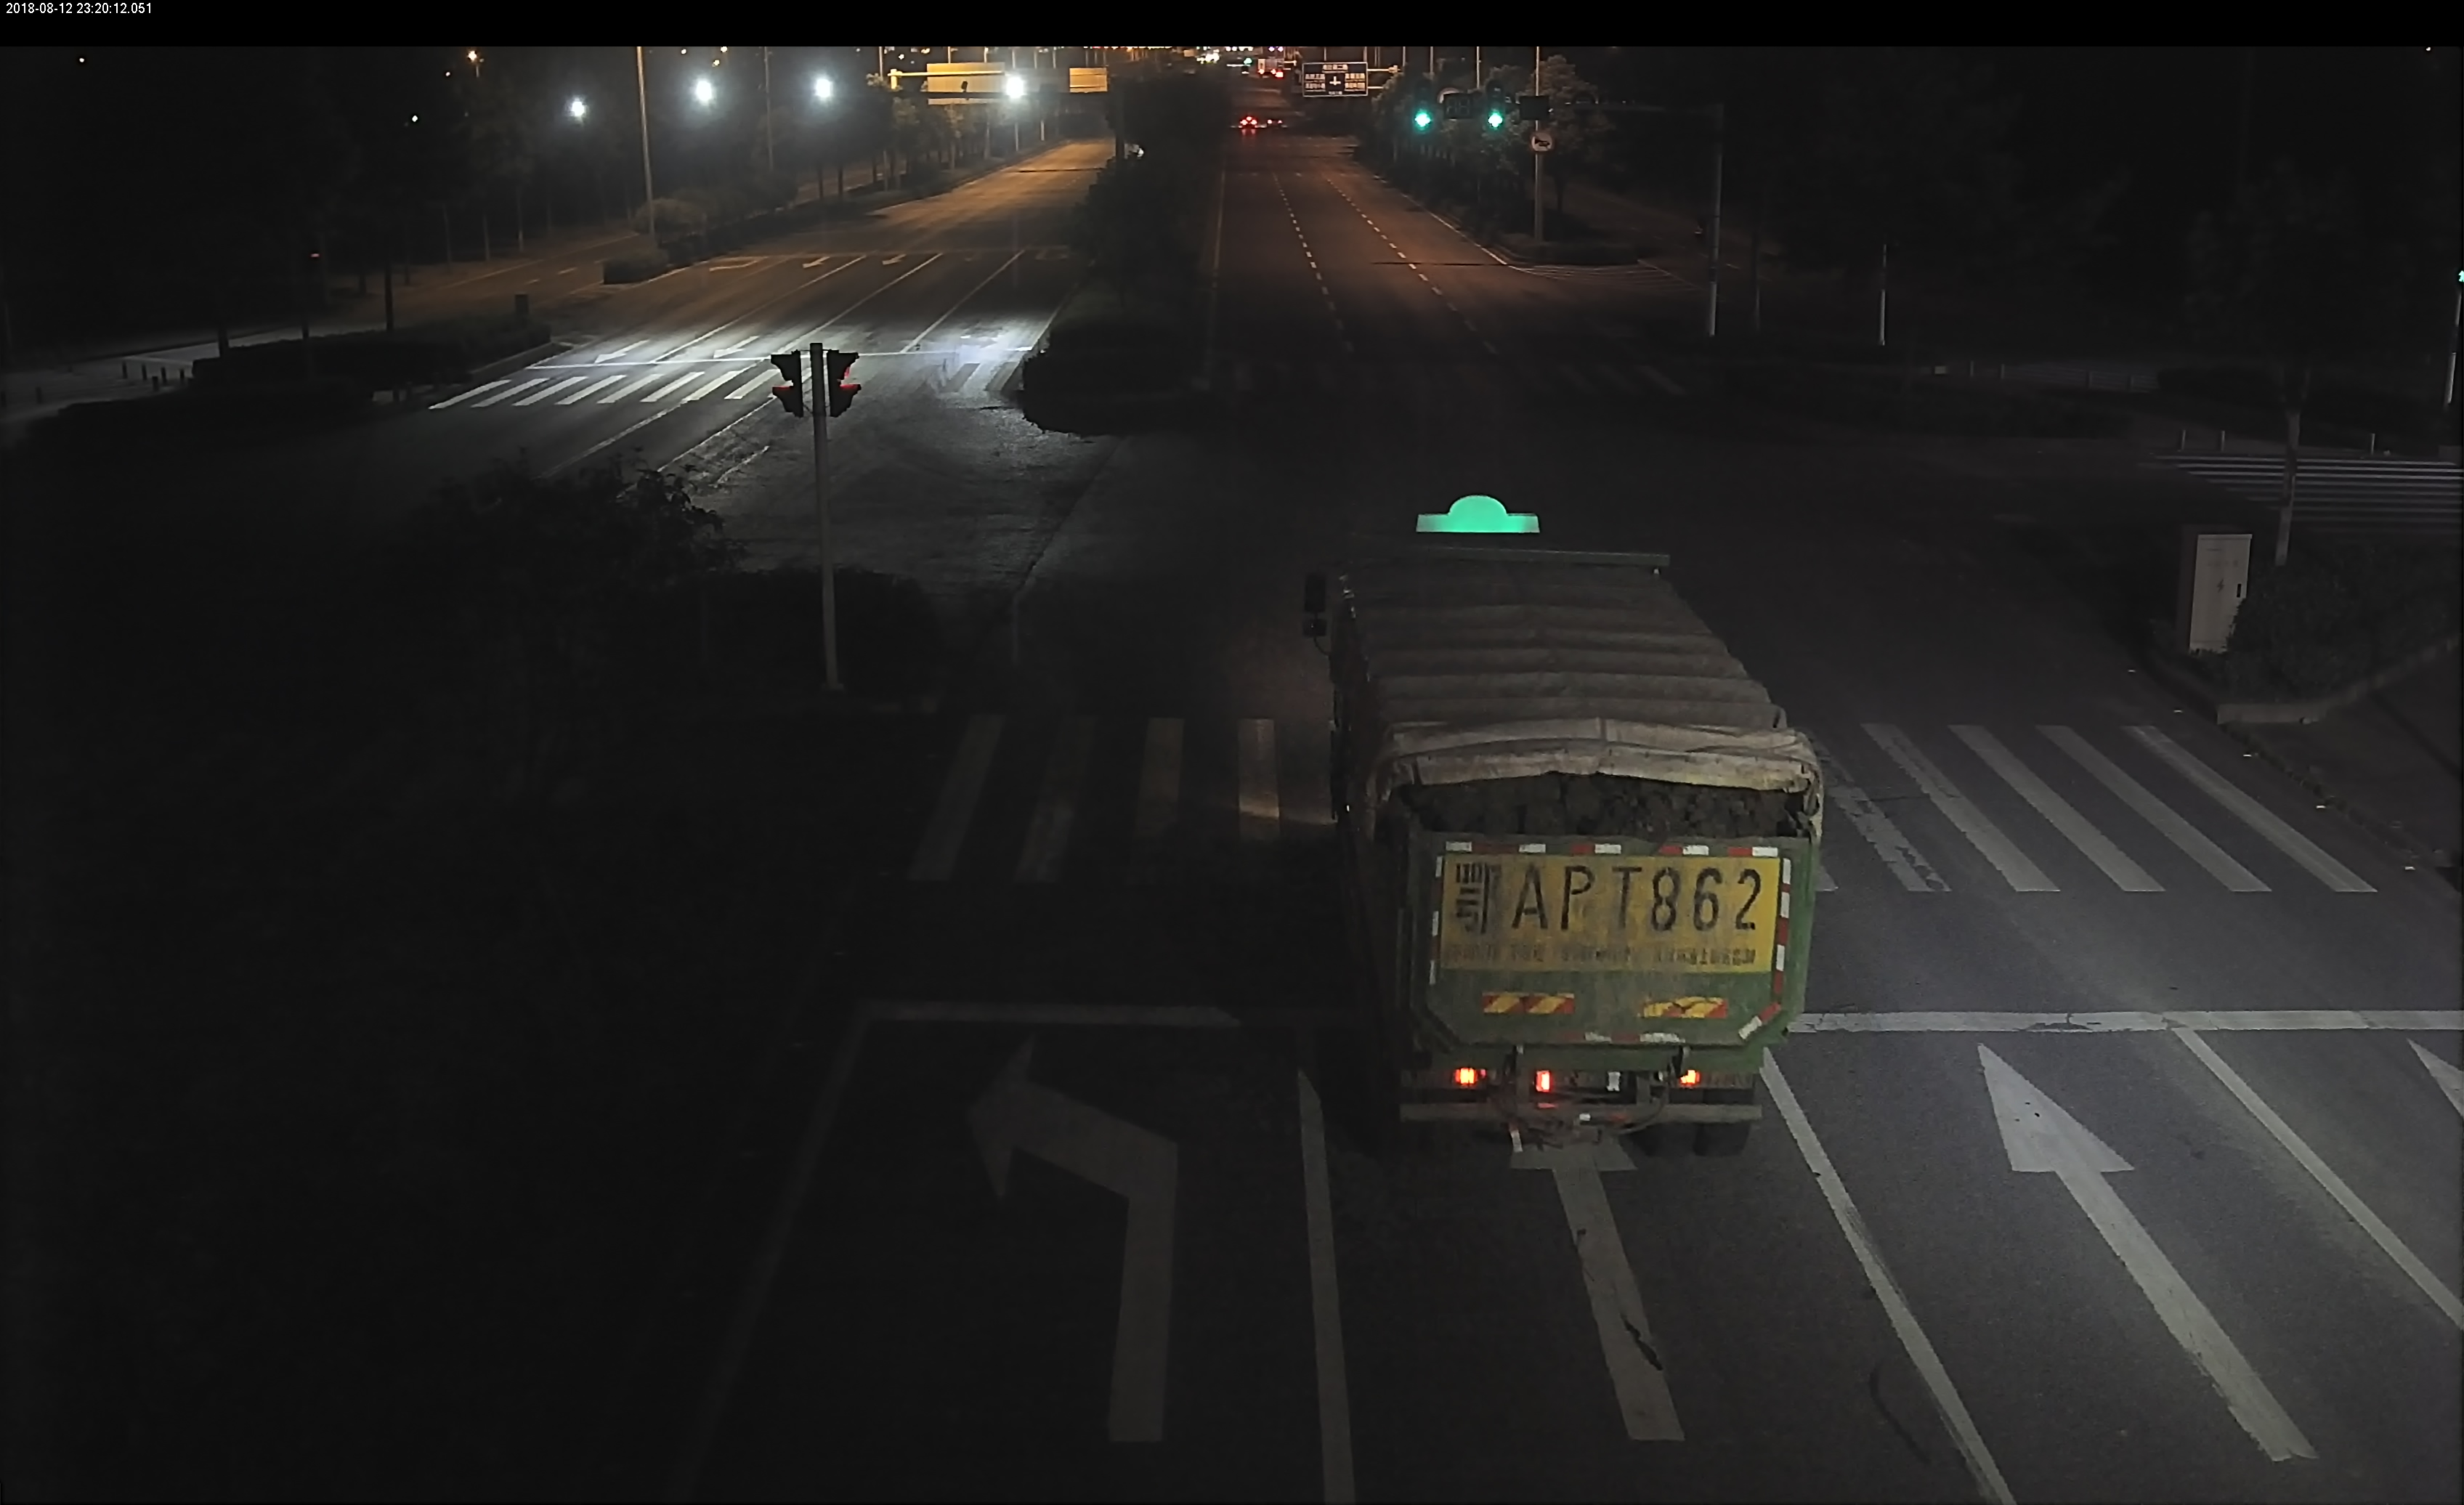slagcar: (1325, 451, 1793, 1151)
